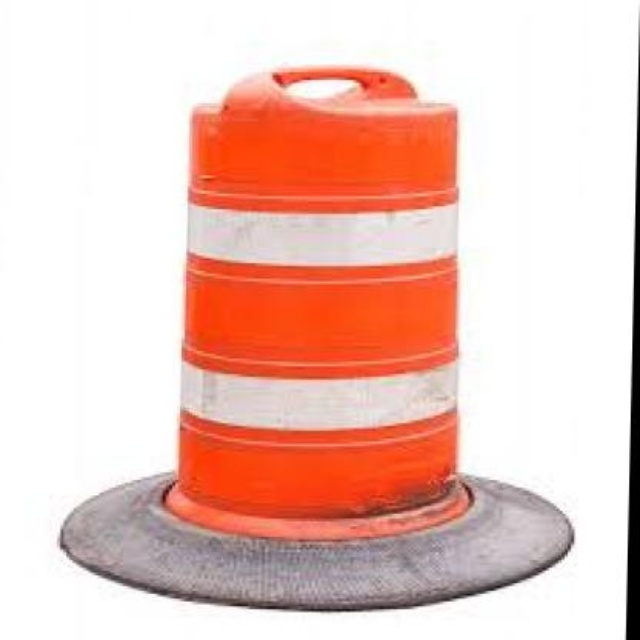obstacle: (129, 62, 554, 540)
